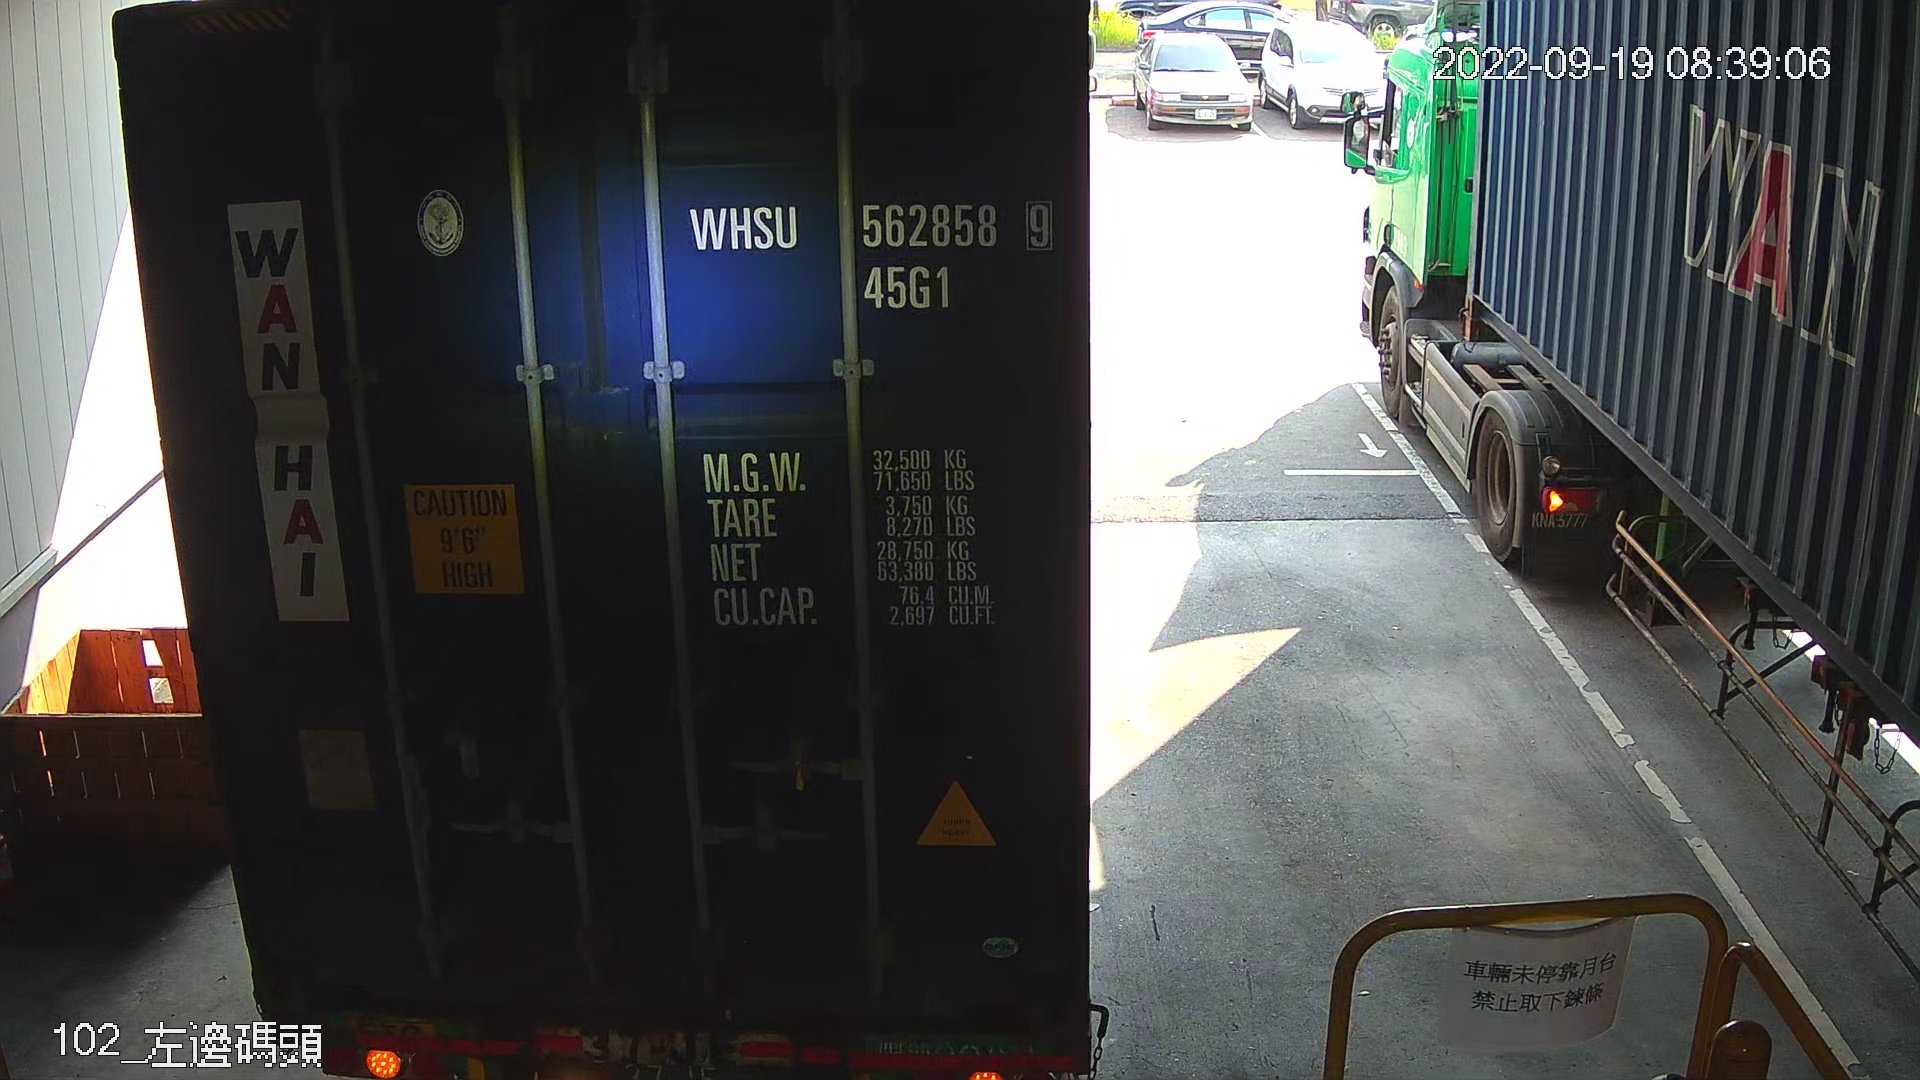container: (673, 182, 1067, 319)
